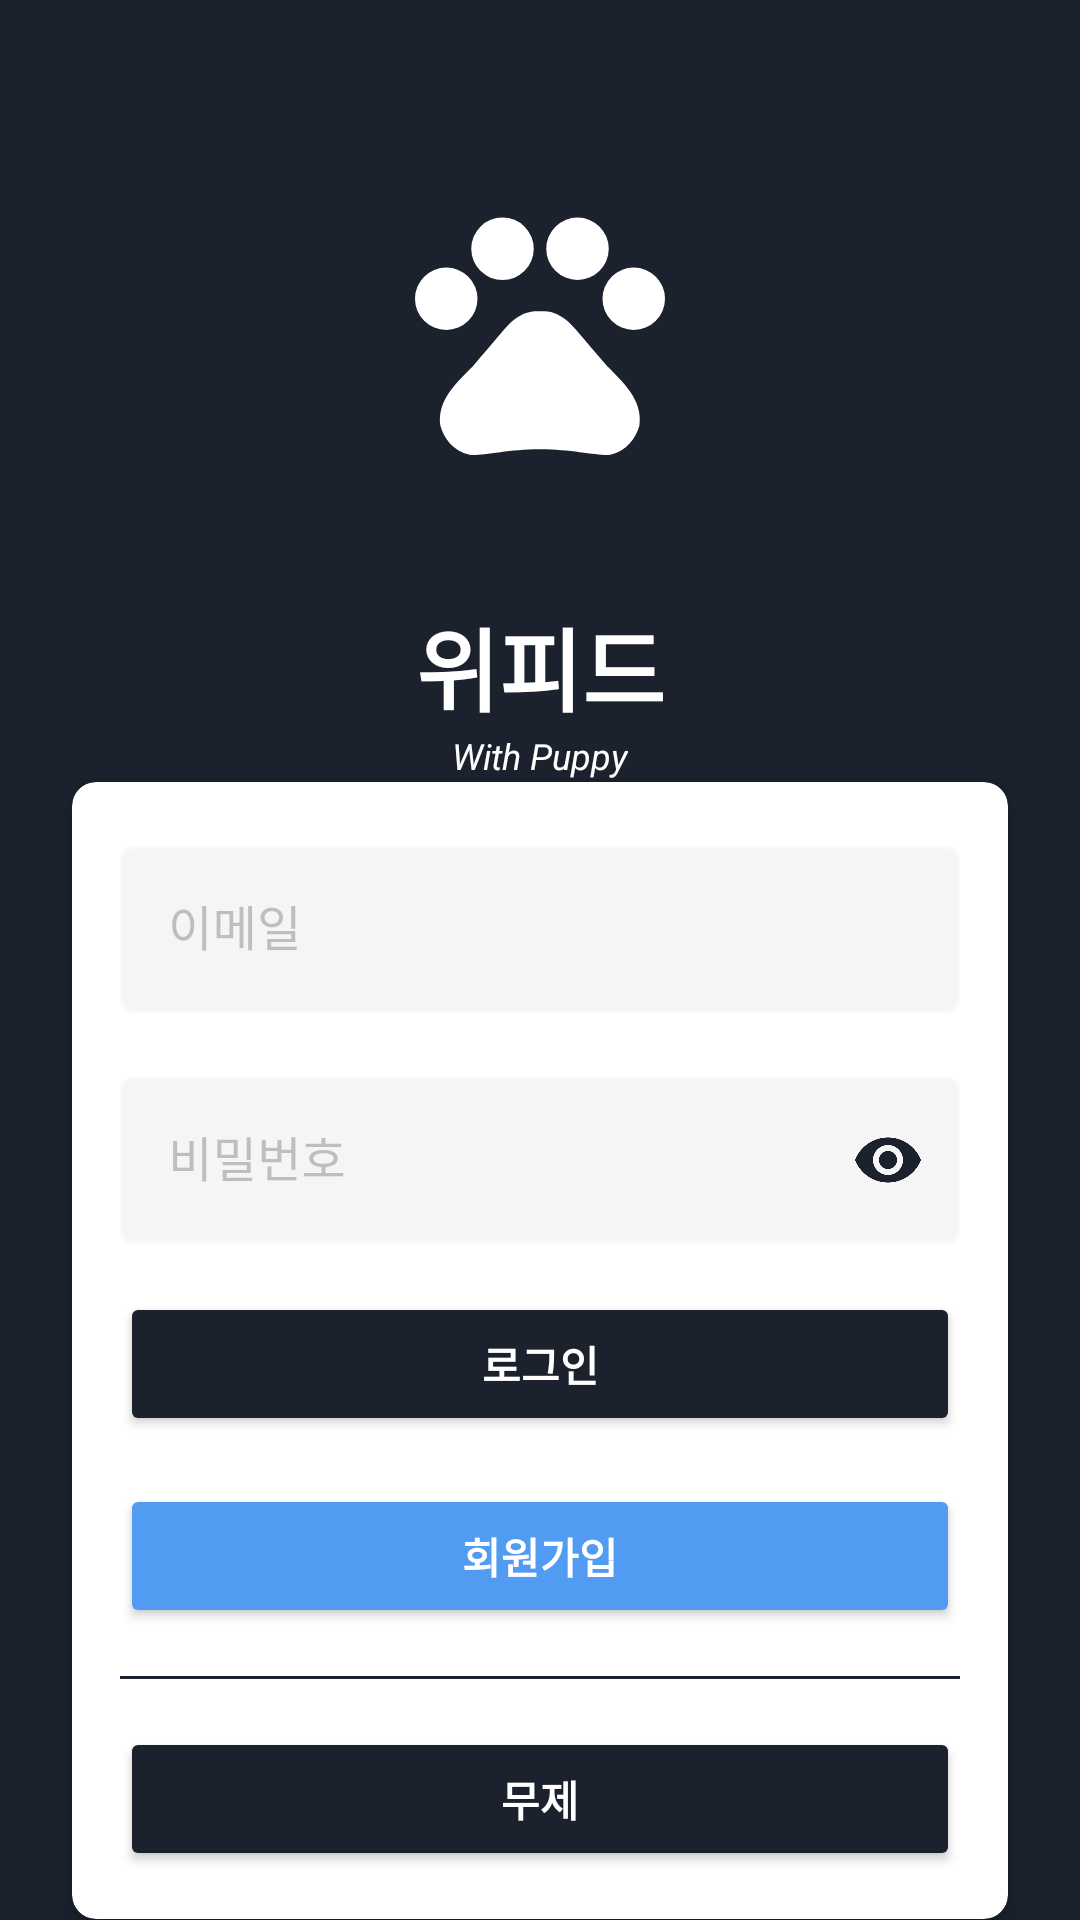

Named icons in this screenshot (1080 x 1920) and their centers, (x,y):
pets: (540,336)
